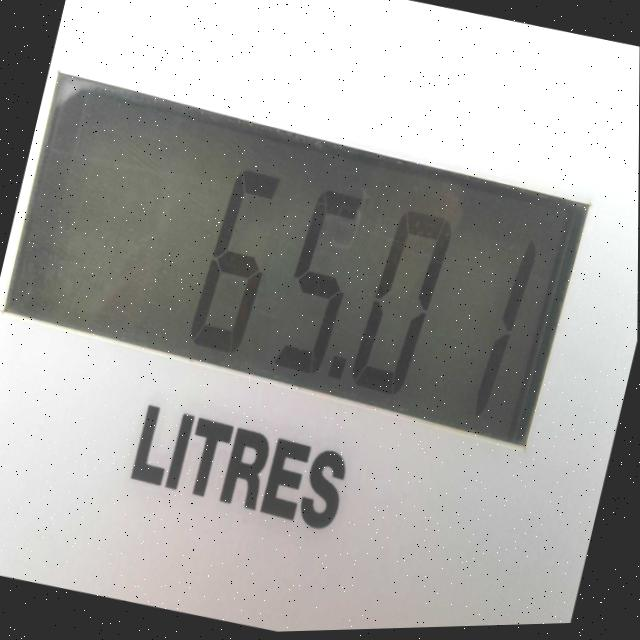.: (313, 338, 356, 401)
0: (336, 185, 469, 427)
1: (445, 211, 562, 429)
5: (257, 165, 374, 405)
6: (170, 153, 297, 364)
